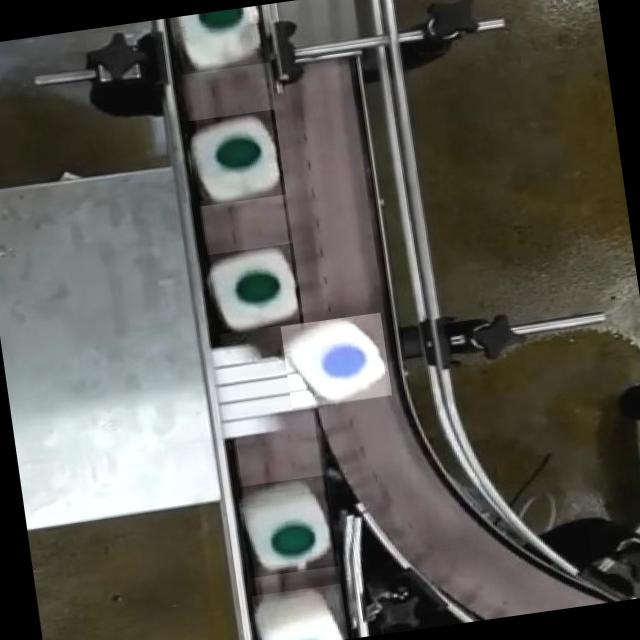milk: (282, 312, 396, 418), (180, 108, 290, 216), (205, 242, 302, 338), (242, 480, 338, 574), (177, 8, 270, 75)
